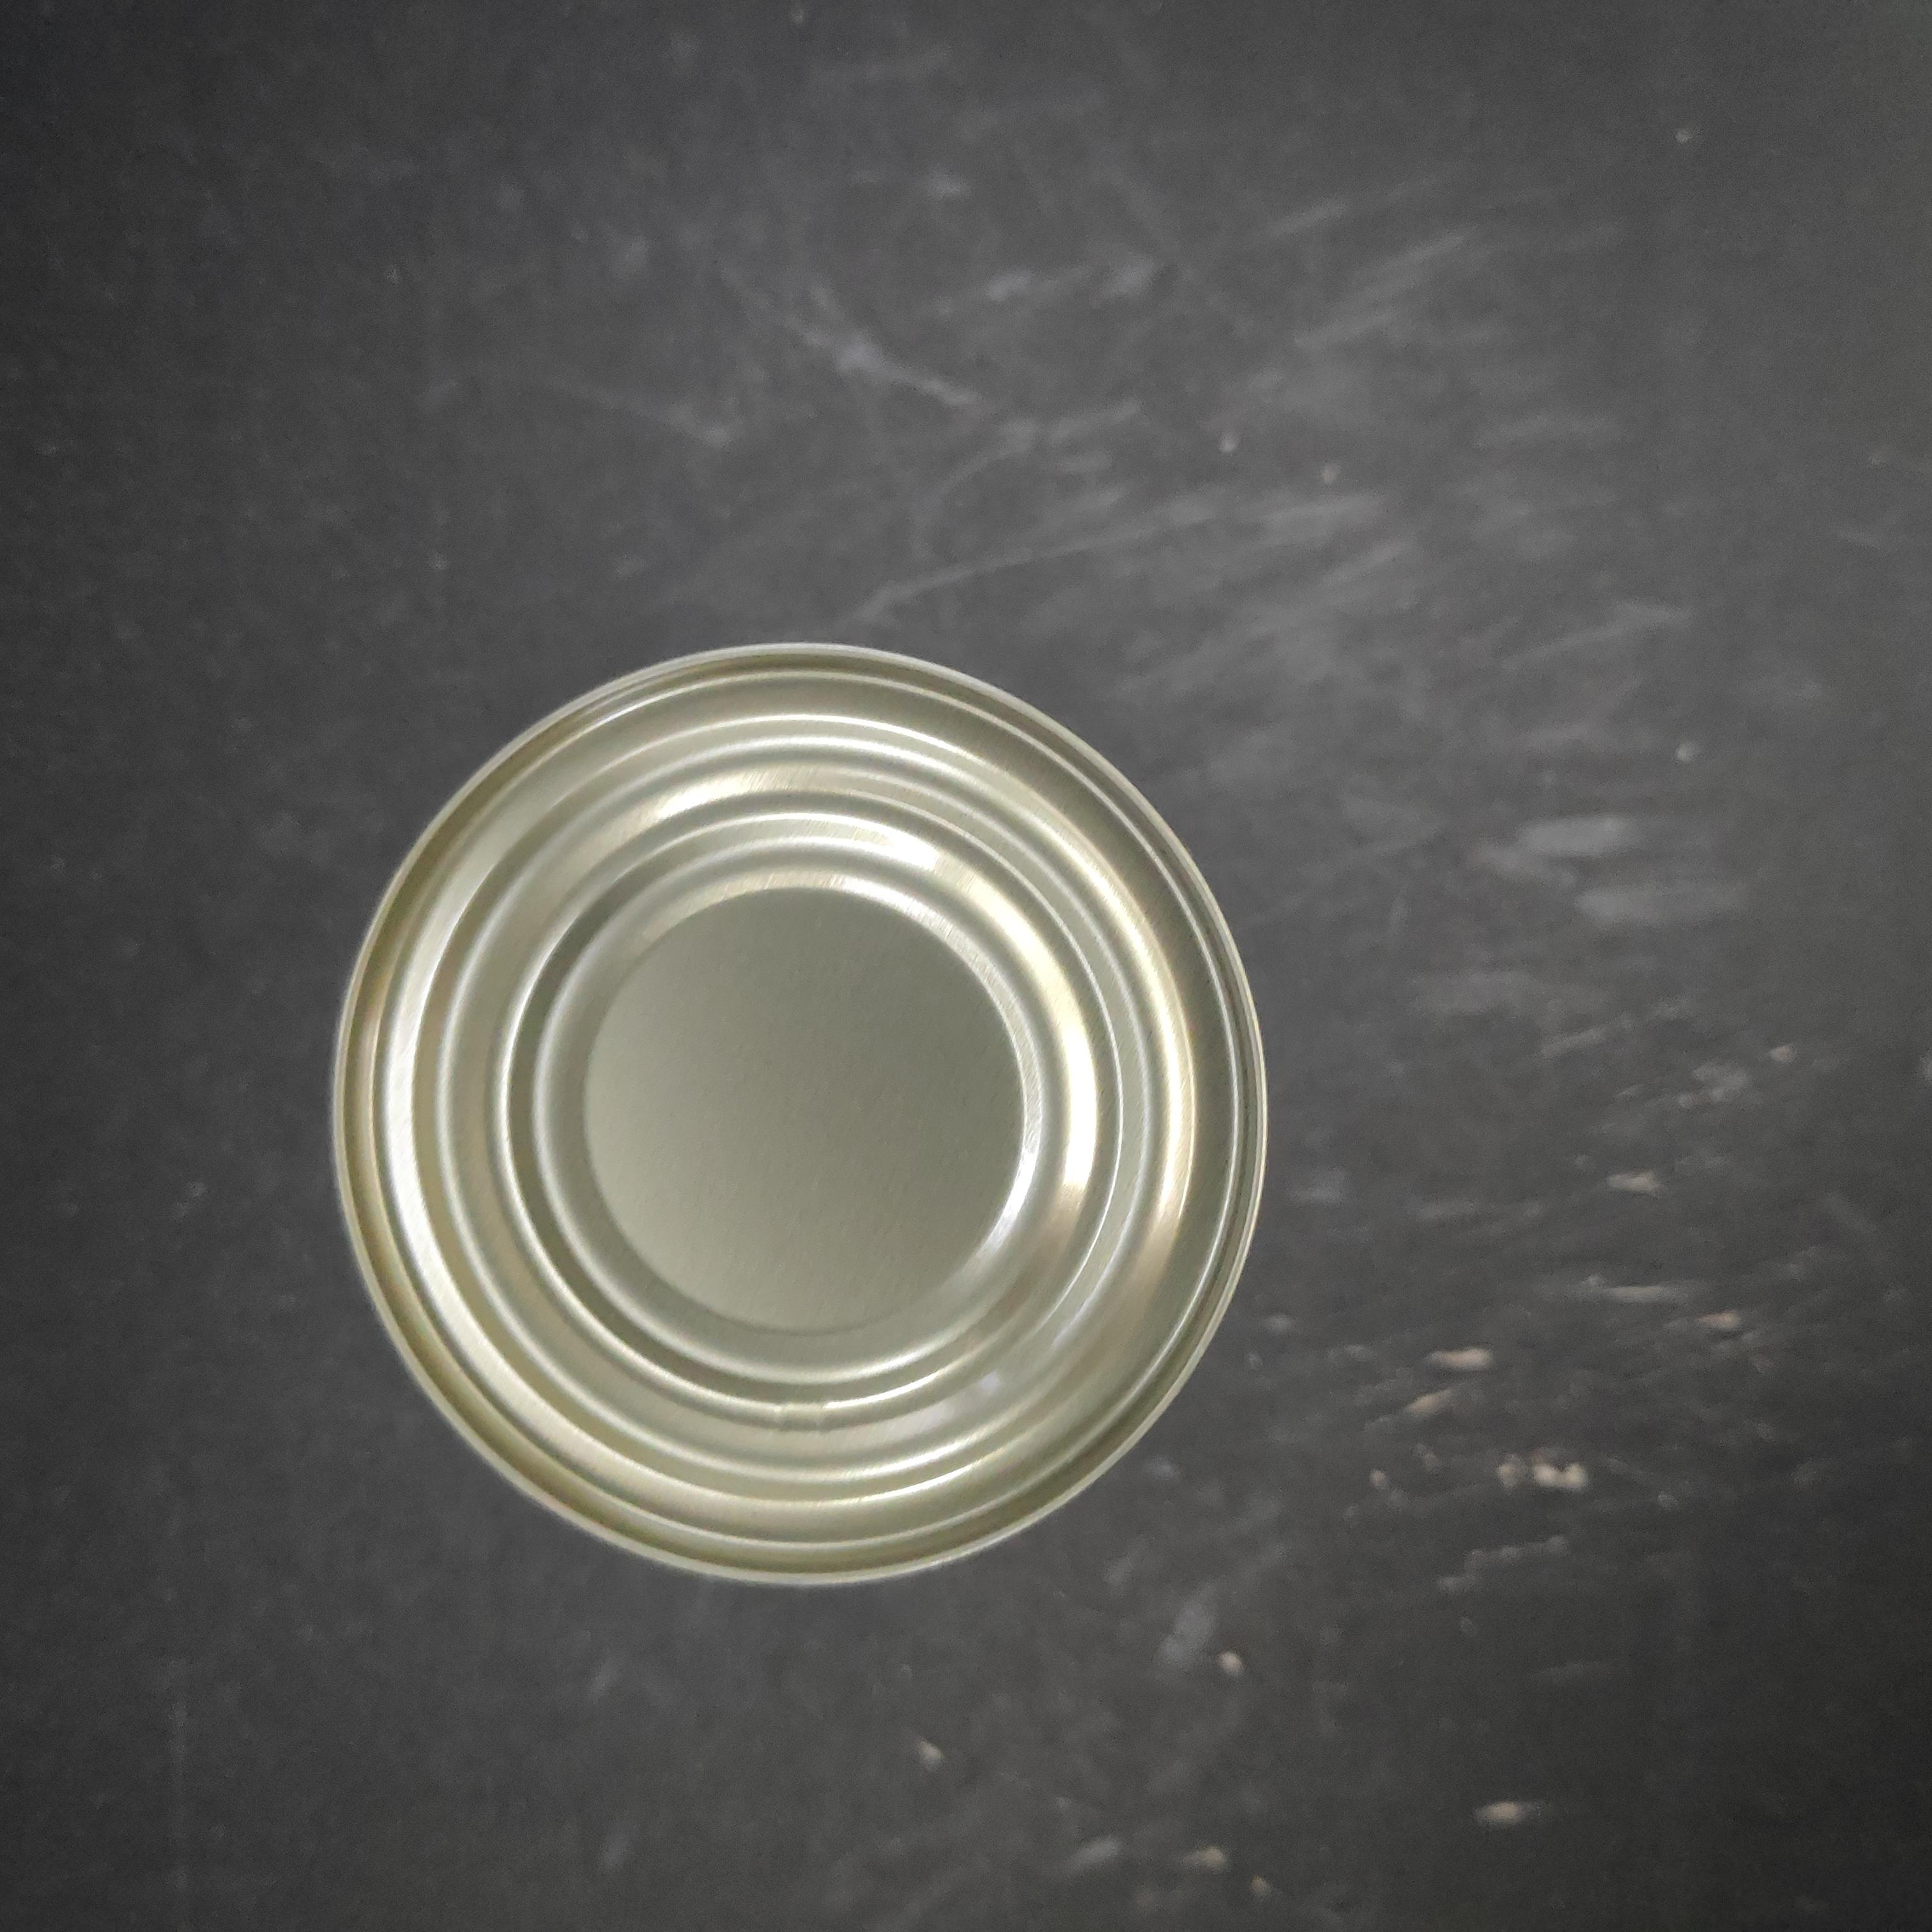No defect: (617, 649, 1605, 1621)
